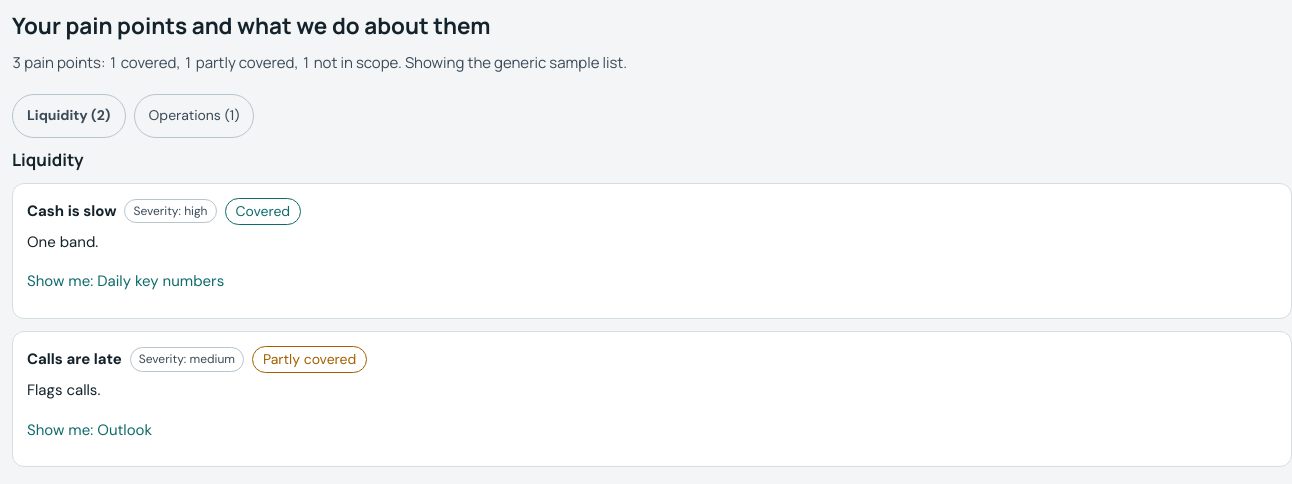
Test case: walks clusters with coverage chips and Show me links
The width and height of the screenshot is (1292, 484).
Expected: the text "Cash is slow" is shown, [27, 200, 116, 223]
Expected: the text "1 covered" is shown, [12, 52, 627, 73]
Click the button "Operations (1)".
click(194, 116)  # box [134, 94, 254, 138]
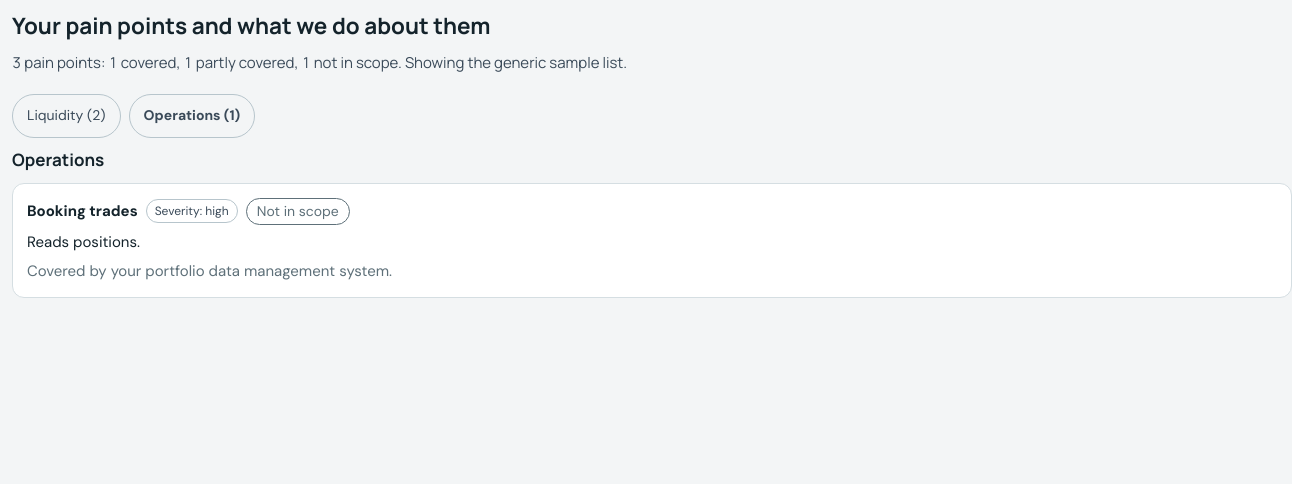
Now the text "Not in scope" is shown, box [246, 198, 350, 225]
Now the text "Covered by your portfolio data management system." is shown, box [27, 261, 392, 281]
Now the link "Show me" is gone
